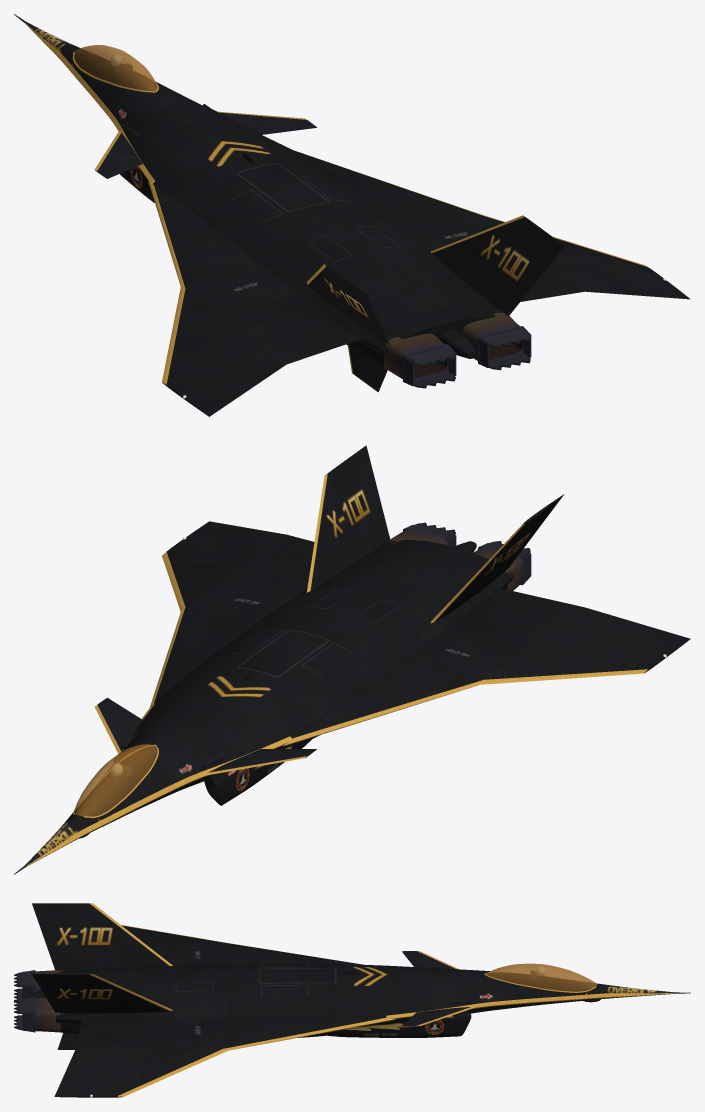
3 views of the same model, one above another, from view 1: azimuth 30°, elevation 25°; view 2: azimuth 150°, elevation 25°; view 3: azimuth 270°, elevation 25° (orthographic). The views are drawn at different scales.
Visible parts, largest first — view 1: x100; view 2: x100; view 3: x100.
Boxes of the visible parts, box(x1,y1,x2,y2) form: x100: box(14, 14, 690, 416); x100: box(14, 445, 690, 874); x100: box(14, 903, 690, 1097).
Bounding box in the file's own units: 12.66 × 2.98 × 21.
3 materials, 2 textured.
